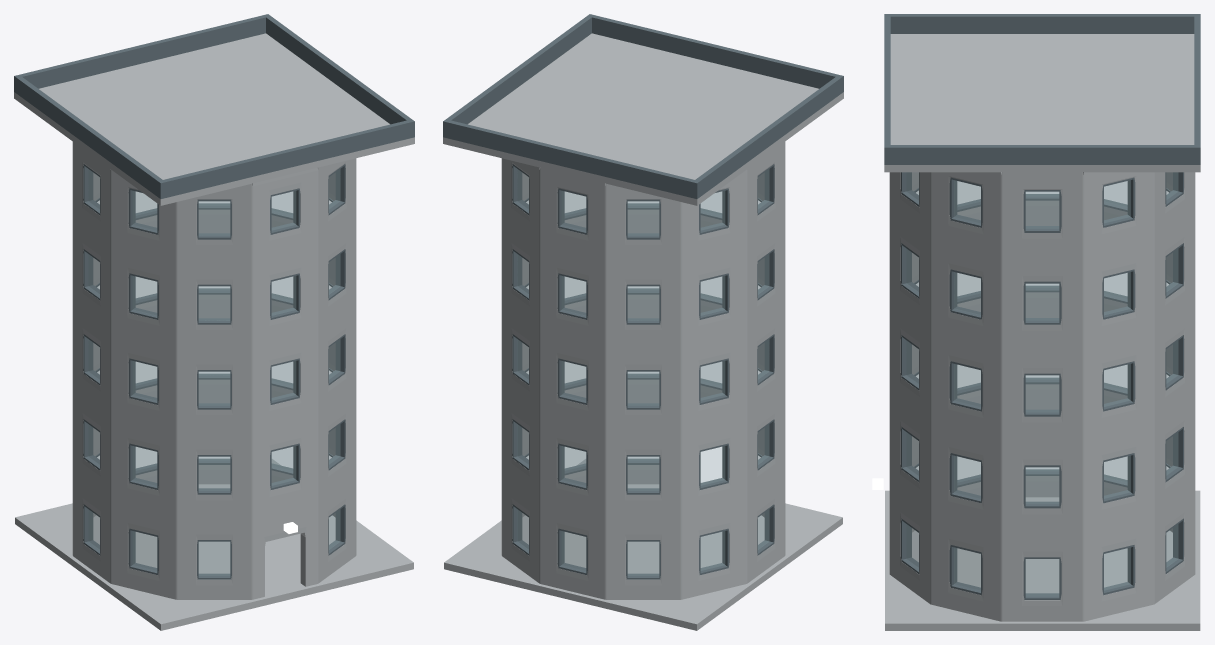
File: tower_5_lod0.glb
3 views of the same model, side by side, from view 1: azimuth 30°, elevation 25°; view 2: azimuth 150°, elevation 25°; view 3: azimuth 270°, elevation 25° (orthographic). The views are drawn at different scales.
Visible parts, largest first — view 1: Ceiling baked, Wall_11 baked, Wall_0 baked, Wall_10 baked, Floor baked, Wall_9 baked, Wall_1 baked, Parapet baked, Parapet.002 baked, Wall_5 baked, Parapet.001 baked, Parapet.003 baked (+18 smaller); view 2: Ceiling baked, Wall_7 baked, Wall_6 baked, Wall_8 baked, Wall_9 baked, Wall_5 baked, Floor baked, Parapet.002 baked, Parapet baked, Wall_1 baked, Parapet.001 baked, Parapet.003 baked (+18 smaller); view 3: Ceiling baked, Wall_3 baked, Wall_4 baked, Wall_2 baked, Wall_1 baked, Wall_5 baked, Floor baked, Parapet.001 baked, Parapet.003 baked, Wall_9 baked, Glazing.016 baked, Glazing.014 baked (+19 smaller).
Boxes of the visible parts, x1,y1,x2,y2 form: Ceiling baked: (14,33,414,205); Wall_11 baked: (176,183,252,599); Wall_0 baked: (252,167,317,599); Wall_10 baked: (111,170,176,599); Floor baked: (15,459,413,630); Wall_9 baked: (73,142,110,583); Wall_1 baked: (318,158,355,583); Parapet baked: (158,119,414,198); Parapet.002 baked: (14,14,270,93); Wall_5 baked: (198,209,230,484); Parapet.001 baked: (17,77,162,196); Parapet.003 baked: (266,16,411,124); Ceiling baked: (443,33,843,205); Wall_7 baked: (605,183,681,599); Wall_6 baked: (540,167,605,599); Wall_8 baked: (681,170,746,599); Wall_9 baked: (747,142,784,583); Wall_5 baked: (502,158,539,583); Floor baked: (444,459,842,630); Parapet.002 baked: (443,119,699,198); Parapet baked: (587,14,843,93); Wall_1 baked: (627,209,659,484); Parapet.001 baked: (695,77,840,196); Parapet.003 baked: (446,16,591,124); Ceiling baked: (884,34,1200,172); Wall_3 baked: (1001,172,1083,621); Wall_4 baked: (1083,172,1154,621); Wall_2 baked: (930,172,1001,621); Wall_1 baked: (889,172,930,604); Wall_5 baked: (1154,172,1195,604); Floor baked: (885,490,1200,630); Parapet.001 baked: (890,14,1194,33); Parapet.003 baked: (890,145,1194,164); Wall_9 baked: (1025,200,1059,497); Glazing.016 baked: (1026,375,1058,412); Glazing.014 baked: (1026,559,1058,595).
Size of the model in its own units: 10 by 16.85 by 10.38.
